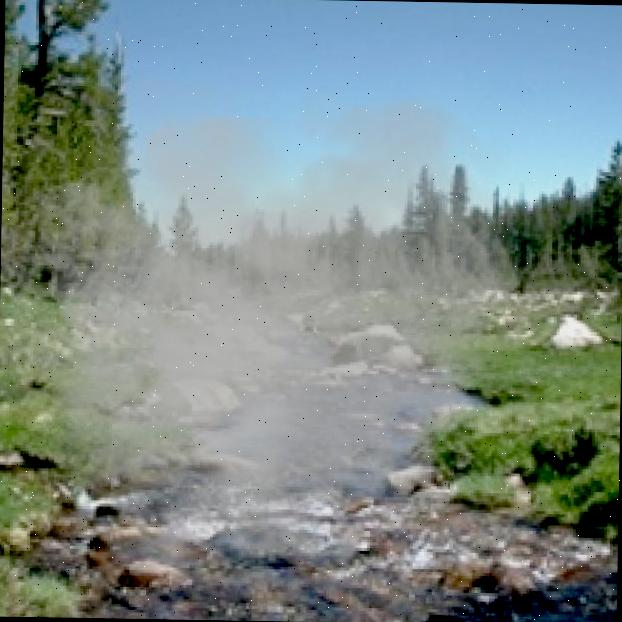smoke: (0, 77, 544, 609)
